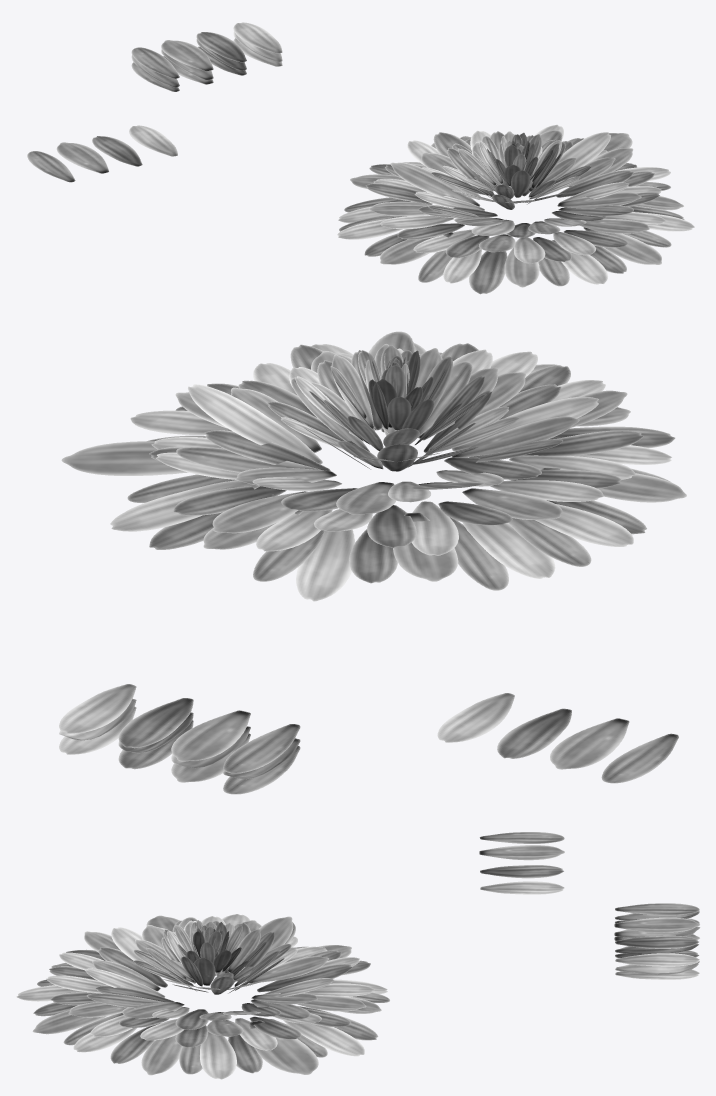
File: Flower.FBX
The picture shows the model from 3 angles, top to bottom: view 1: azimuth 30°, elevation 25°; view 2: azimuth 150°, elevation 25°; view 3: azimuth 270°, elevation 25°; orthographic projection. The views are drawn at different scales.
Parts seen in each view (by area): view 1: Cage, Highpoly, Petal 080, Lowpoly, Petal 024, Petal 020, Petal 066, Petal 2, Petal 019, Petal 028, Petal 4, Petal 025 (+33 smaller); view 2: Cage, Lowpoly, Petal 066, Petal 030, Petal 010, Petal 031, Petal 2, Petal 005, Highpoly, Petal 027, Petal 4, Petal 3 (+52 smaller); view 3: Cage, Highpoly, Petal 010, Petal 012, Petal 005, Petal 017, Petal 2, Petal 083, Petal 020, Petal 4, Lowpoly, Petal 3 (+39 smaller).
Boxes of the visible parts, <box> form: Cage: <box>131,22,282,78</box>; Highpoly: <box>131,31,282,87</box>; Petal 080: <box>390,162,480,206</box>; Lowpoly: <box>131,38,282,91</box>; Petal 024: <box>469,251,507,294</box>; Petal 020: <box>583,227,661,264</box>; Petal 066: <box>558,132,610,172</box>; Petal 2: <box>56,142,108,173</box>; Petal 019: <box>552,240,607,284</box>; Petal 028: <box>380,232,453,264</box>; Petal 4: <box>129,125,177,156</box>; Petal 025: <box>504,247,539,287</box>; Cage: <box>59,684,300,773</box>; Lowpoly: <box>59,706,300,794</box>; Petal 066: <box>188,384,322,464</box>; Petal 030: <box>296,529,355,601</box>; Petal 010: <box>61,441,188,475</box>; Petal 031: <box>462,522,555,578</box>; Petal 2: <box>550,718,629,769</box>; Petal 005: <box>110,480,259,531</box>; Highpoly: <box>59,699,300,779</box>; Petal 027: <box>535,504,633,546</box>; Petal 4: <box>437,693,514,742</box>; Petal 3: <box>497,708,571,758</box>; Cage: <box>614,903,699,966</box>; Highpoly: <box>614,911,700,974</box>; Petal 010: <box>249,1020,318,1074</box>; Petal 012: <box>200,1031,236,1079</box>; Petal 005: <box>283,1020,364,1056</box>; Petal 017: <box>141,1035,182,1075</box>; Petal 2: <box>479,845,564,860</box>; Petal 083: <box>247,956,328,983</box>; Petal 020: <box>32,1010,107,1034</box>; Petal 4: <box>480,881,564,894</box>; Lowpoly: <box>614,918,699,979</box>; Petal 3: <box>480,865,563,878</box>.
Bounding box in the file's own units: 331 × 52.72 × 389.
